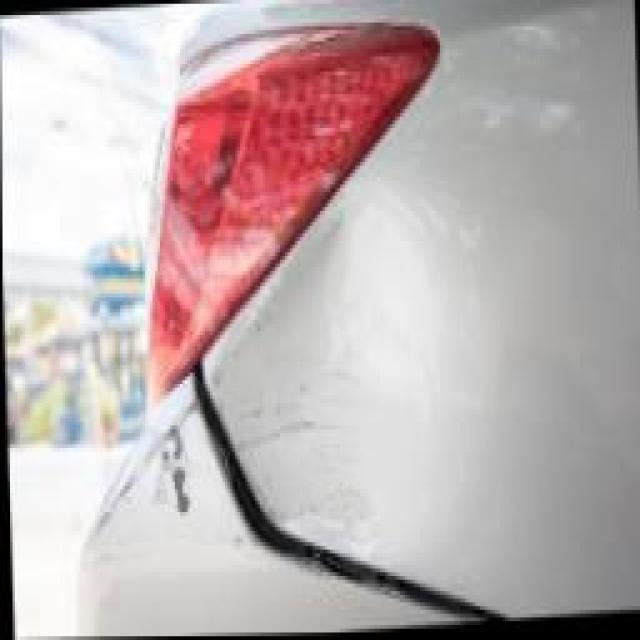Bumper: (8, 365, 207, 640)
Fender: (205, 109, 639, 557)
